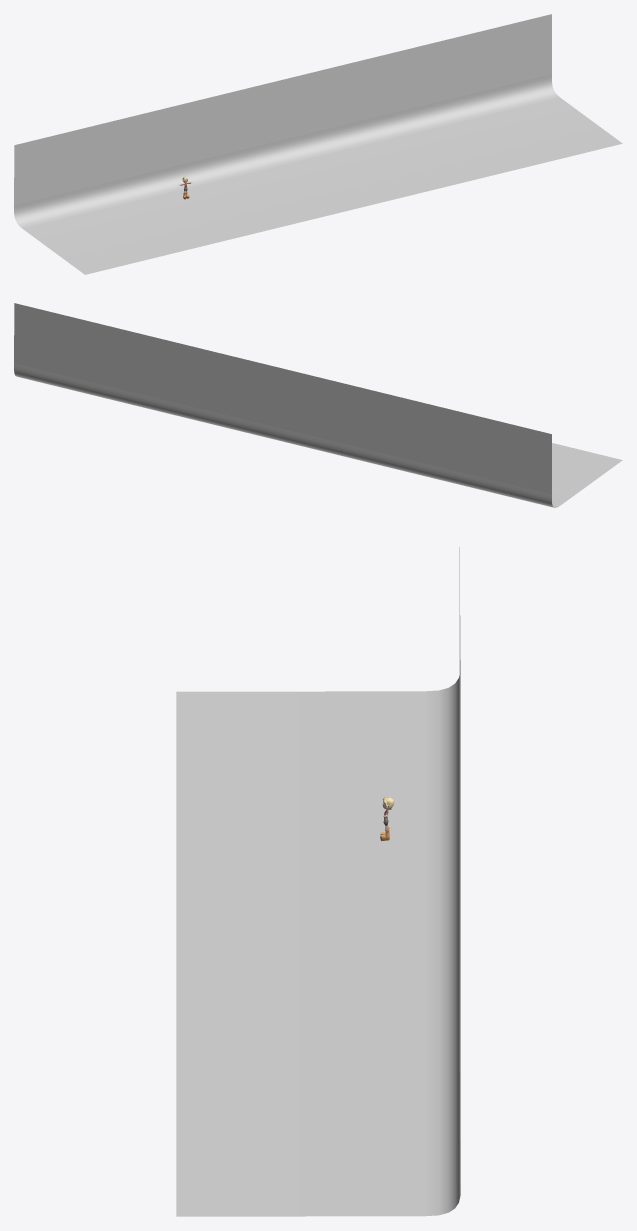
File: gafas.FBX
The picture shows the model from 3 angles, top to bottom: view 1: azimuth 30°, elevation 25°; view 2: azimuth 150°, elevation 25°; view 3: azimuth 270°, elevation 25°; orthographic projection. The views are drawn at different scales.
Visible parts, largest first — view 1: Line001; view 2: Line001; view 3: Line001.
Part boxes in pixels (x1,y1,x2,y2): Line001: [14, 14, 622, 274]; Line001: [14, 303, 622, 507]; Line001: [176, 547, 460, 1216].
Size of the model in its own units: 1000 by 138 by 229.
